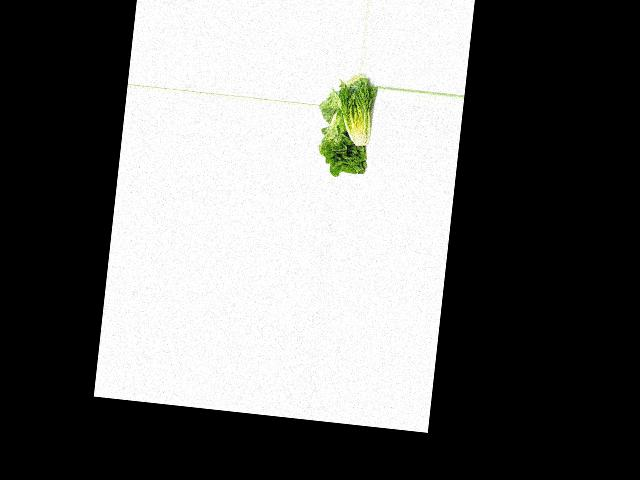lettuce: (316, 111, 375, 178)
